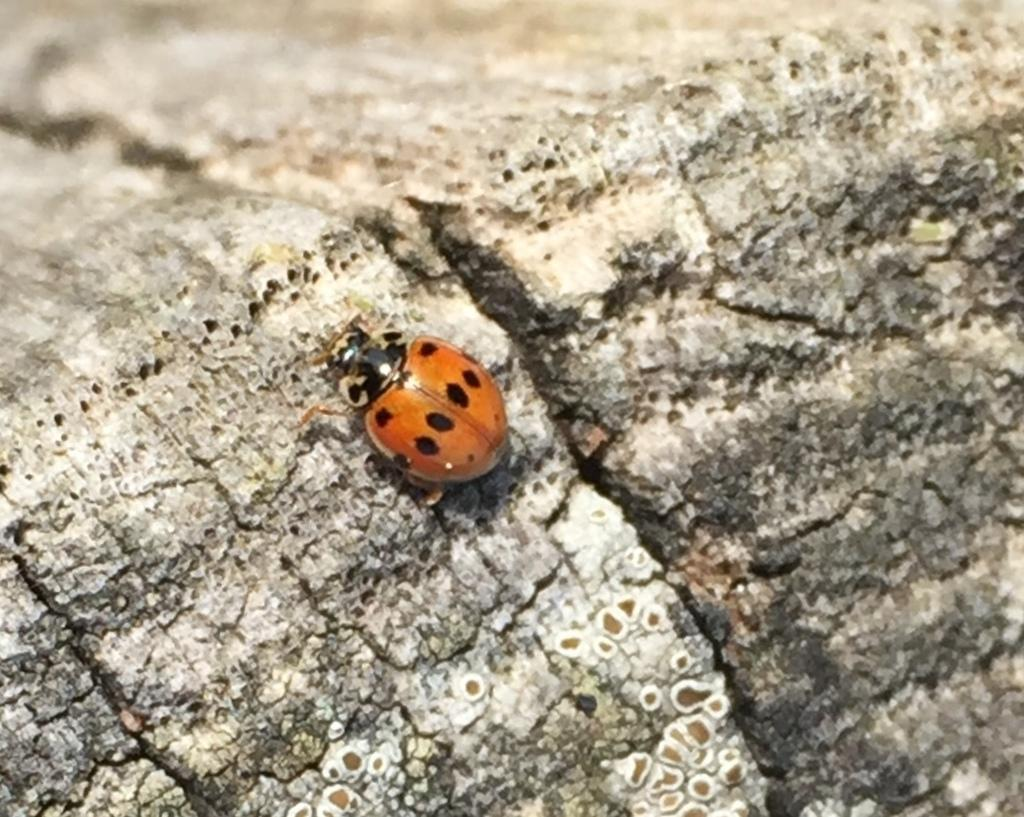ladybug: (303, 299, 515, 507)
